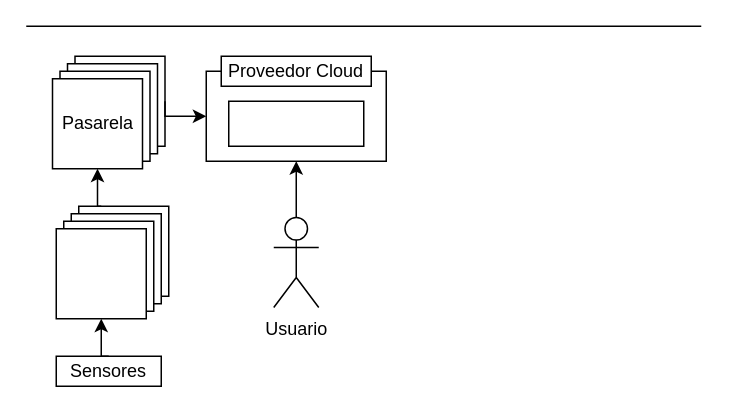
This 729x413 diagram has some shape labels left out. Each missing label, with the centre of its shape:
Nodo: the point at 100,273
Visualización: the point at 295,123
